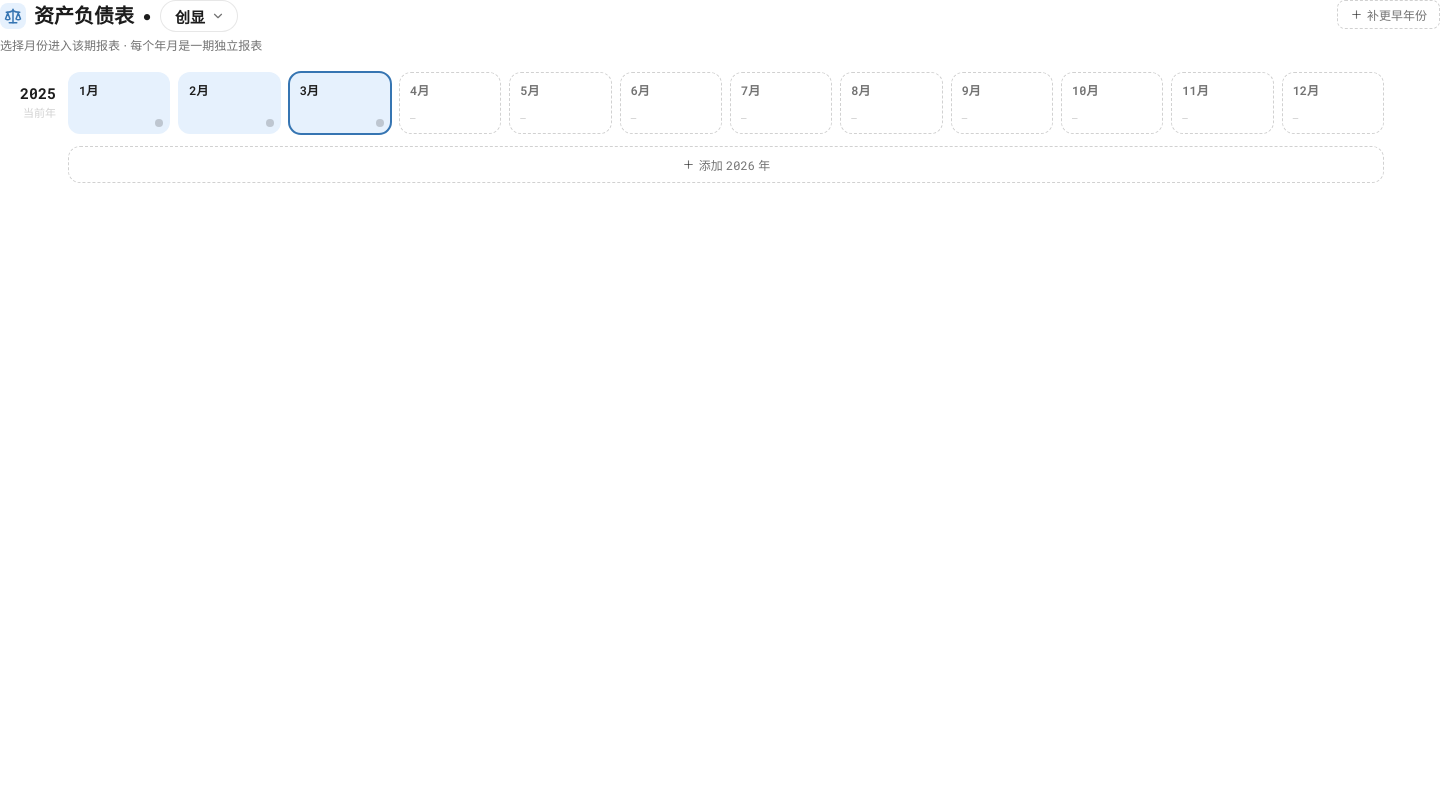
Test: 资产负债表 · 段里一格数都没有的段头默认收起(稿 ReportBS 非流动负债) › ❗本月未录入(整期一格都没有):五个段头全展开 —— 进编辑要录的就是这些格
Click the button with class "bmm-card" showing "1月": (119, 103) [68,72,170,134]
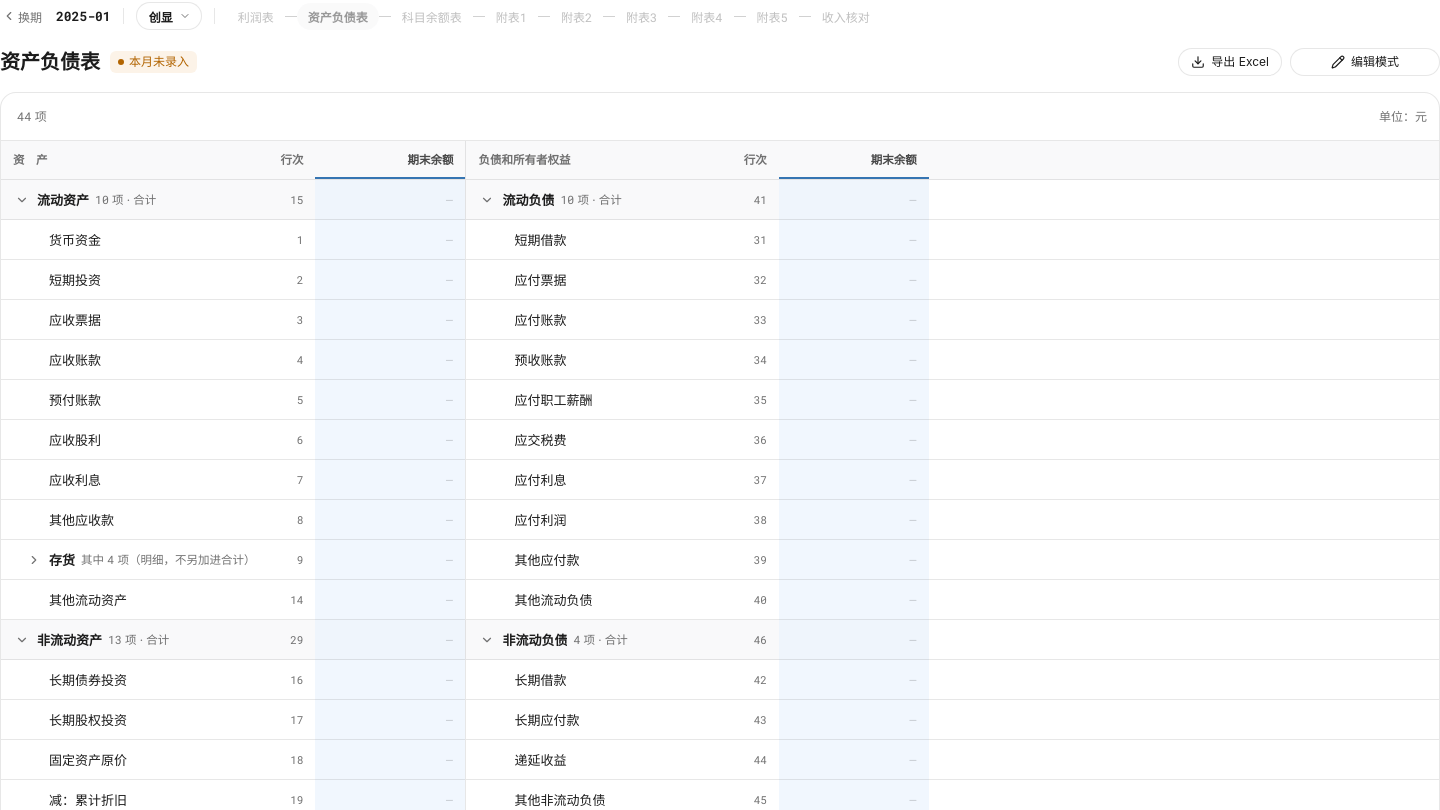
Expected: the element with class "fp-state" reads "本月未录入", [129,54,189,69]
Expected: the text "长期借款" is shown, [514,670,566,690]
